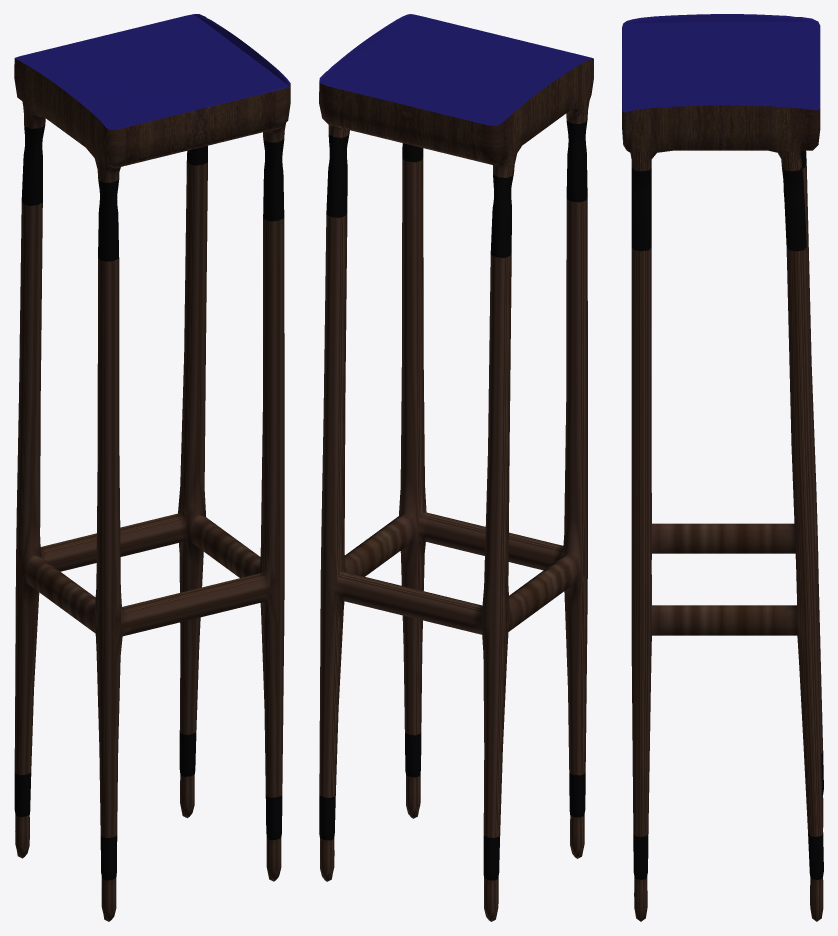
File: New_Bar_Stool_01b.FBX
3 renders of one model, left to right at view 1: azimuth 30°, elevation 25°; view 2: azimuth 150°, elevation 25°; view 3: azimuth 270°, elevation 25°, orthographic. The views are drawn at different scales.
Visible parts, largest first — view 1: New Bar Chair 004; view 2: New Bar Chair 004; view 3: New Bar Chair 004.
Boxes of the visible parts, box(x1,y1,x2,y2) form: New Bar Chair 004: box(14, 14, 290, 921); New Bar Chair 004: box(319, 14, 593, 921); New Bar Chair 004: box(622, 14, 823, 921).
Bounding box in the file's own units: 11.4 × 47.8 × 10.65.
3 materials, 2 textured.
